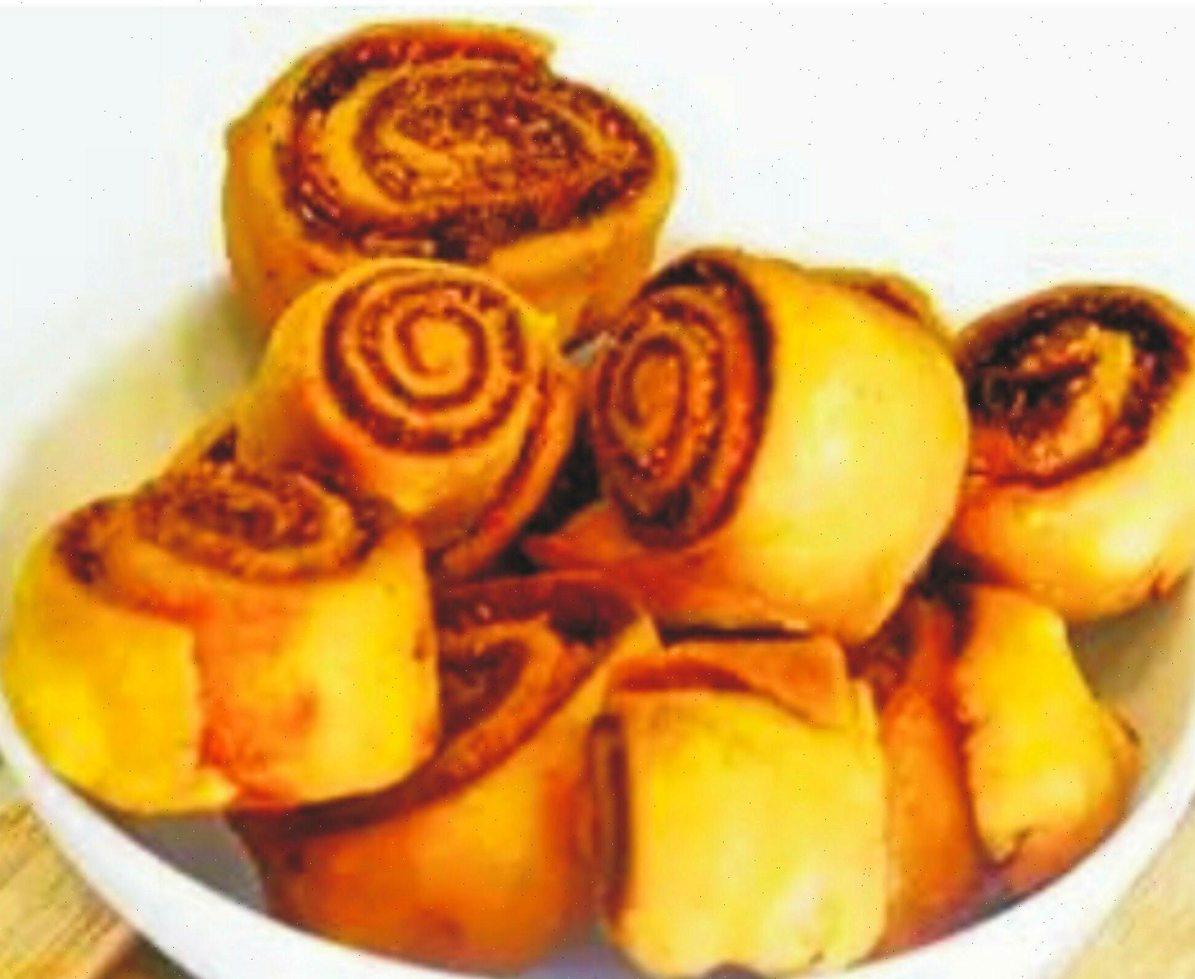bhakarwadi: (57, 31, 1195, 925)
